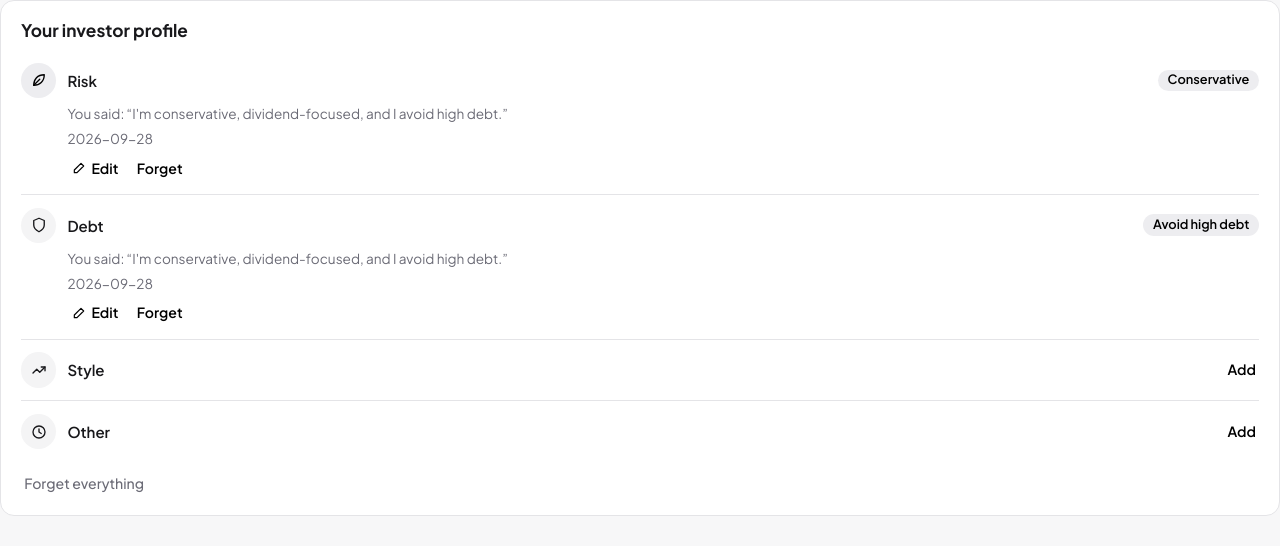
Scenario: the memory panel › forgets everything, with an inline two-step confirm and no window.confirm
The image size is (1280, 546).
Check: the text "Conservative" is shown, box [1158, 70, 1259, 91]
Click the button "Forget everything".
click(84, 484)  # box [21, 472, 147, 497]
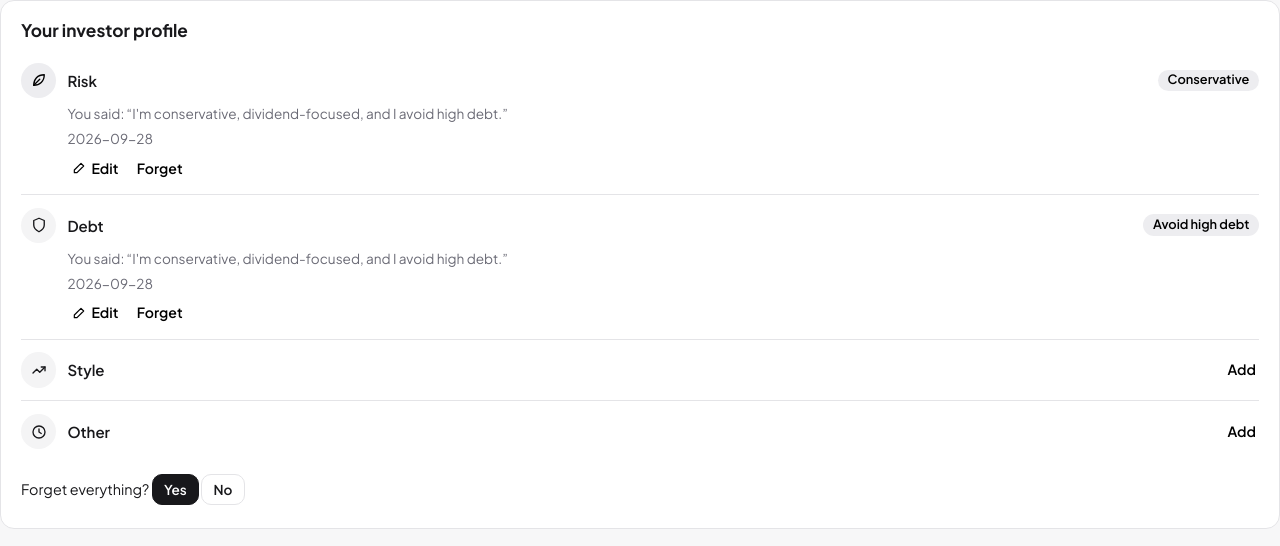
Check: the text "Forget everything?" is shown, box [21, 480, 149, 498]
Click the button with aria-label "No, keep what is remembered".
click(223, 490)  # box [201, 474, 245, 505]
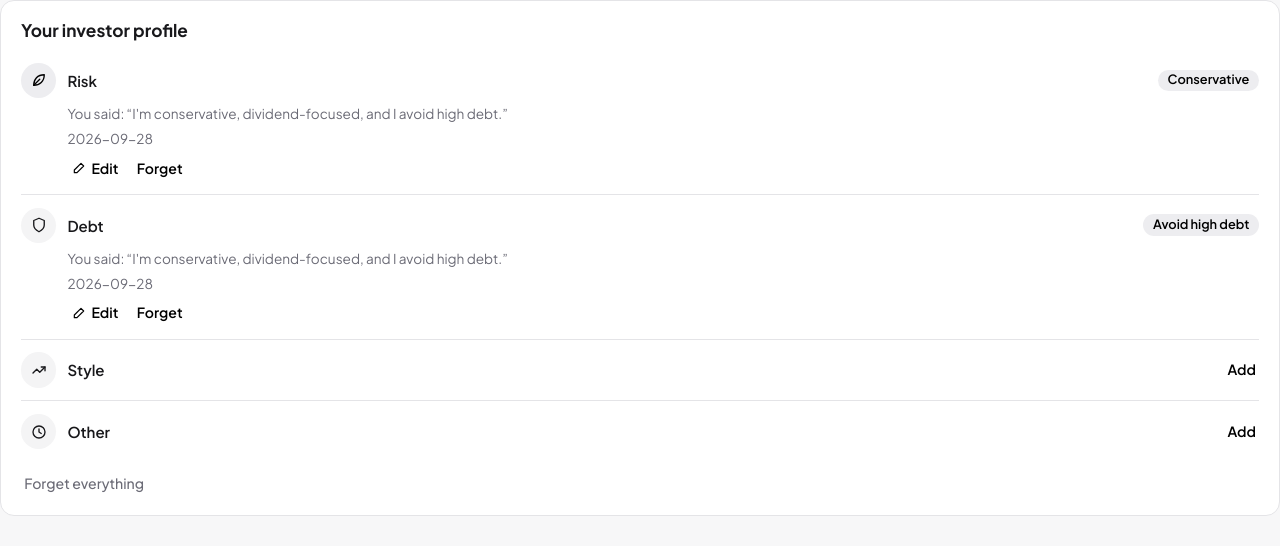
Check: the text "Forget everything?" is not shown
Check: the text "Conservative" is shown, box [1158, 70, 1259, 91]
Click the button "Forget everything".
click(84, 484)  # box [21, 472, 147, 497]
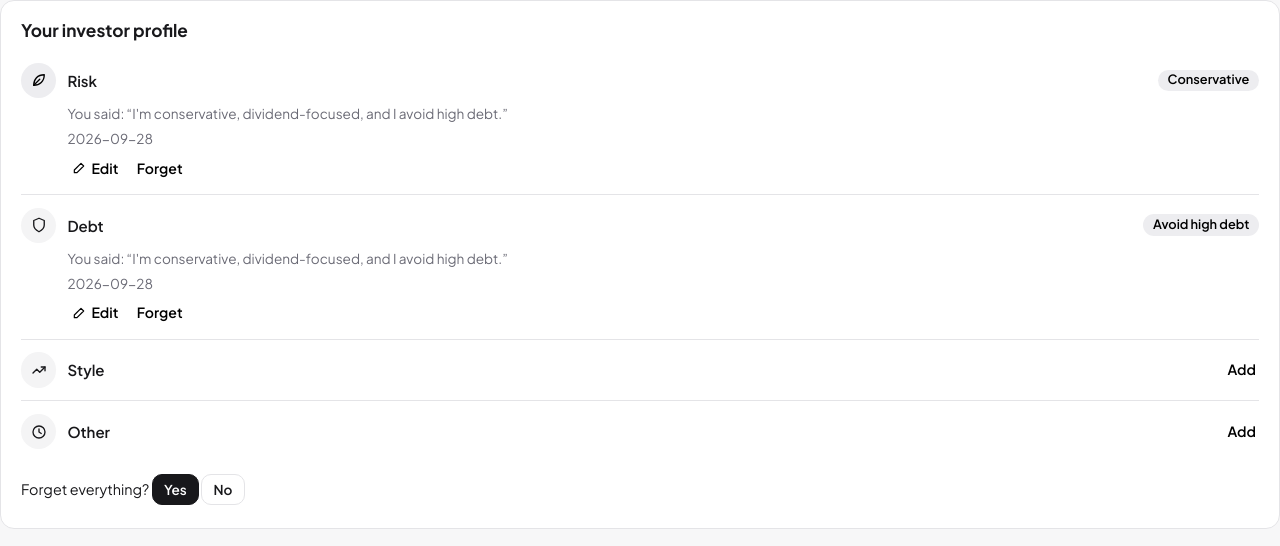
Click the button with aria-label "Yes, forget everything".
click(175, 490)  # box [152, 474, 199, 505]
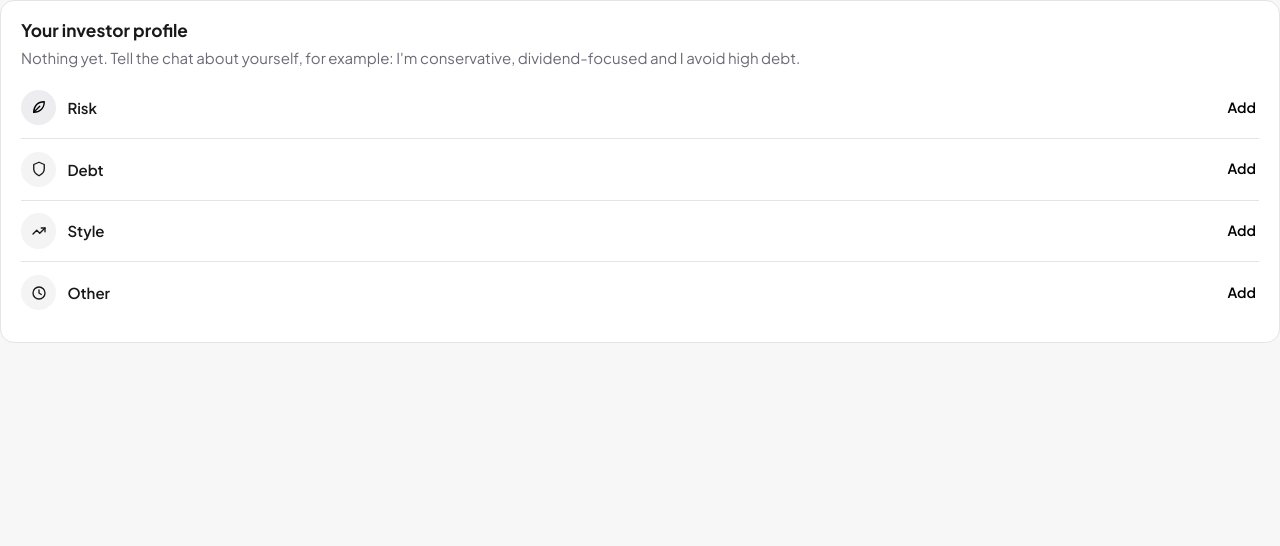
Check: the text "Nothing yet" is shown, box [21, 48, 800, 67]
